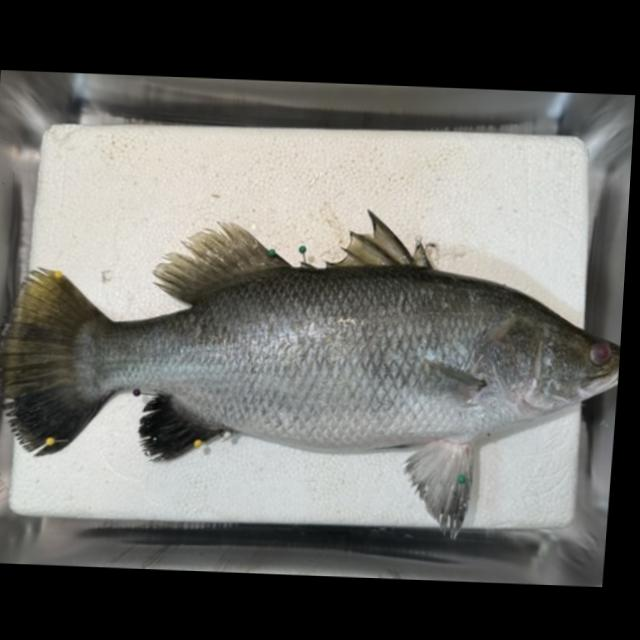Seabass: (0, 192, 629, 545)
